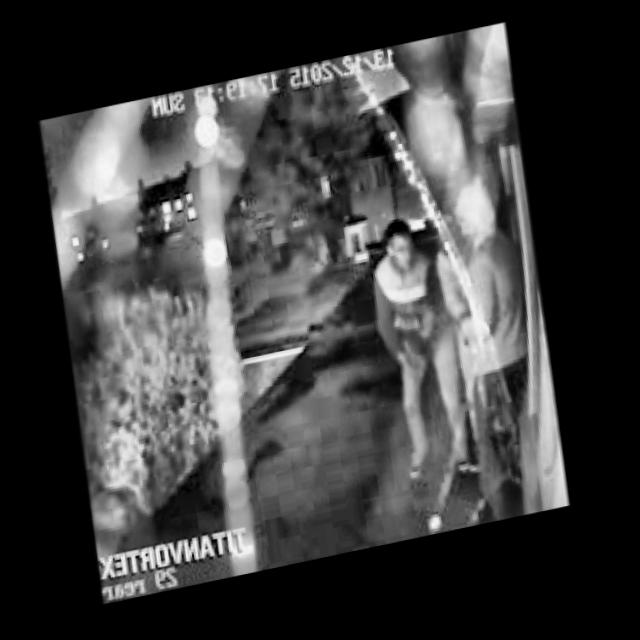burglary: (343, 172, 585, 546)
